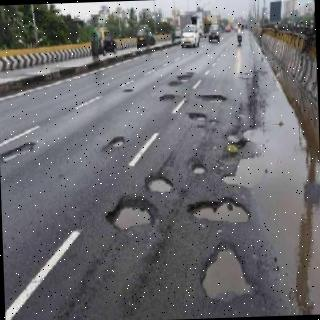pothole: (201, 245, 253, 303), (105, 195, 162, 231), (187, 197, 251, 224), (0, 142, 36, 163), (145, 174, 174, 192), (103, 137, 126, 150), (188, 112, 207, 122), (192, 164, 208, 175)
